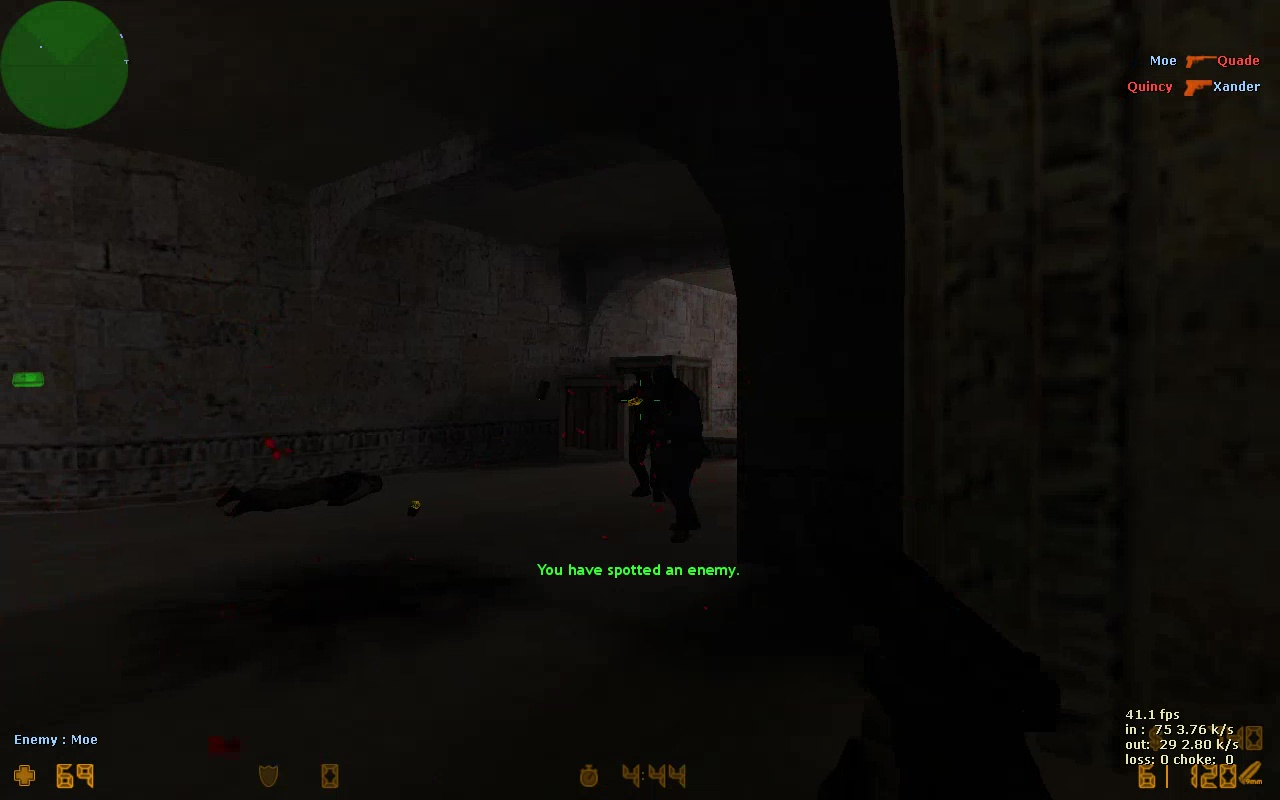ct: (628, 372, 712, 542)
dead: (215, 469, 384, 513)
